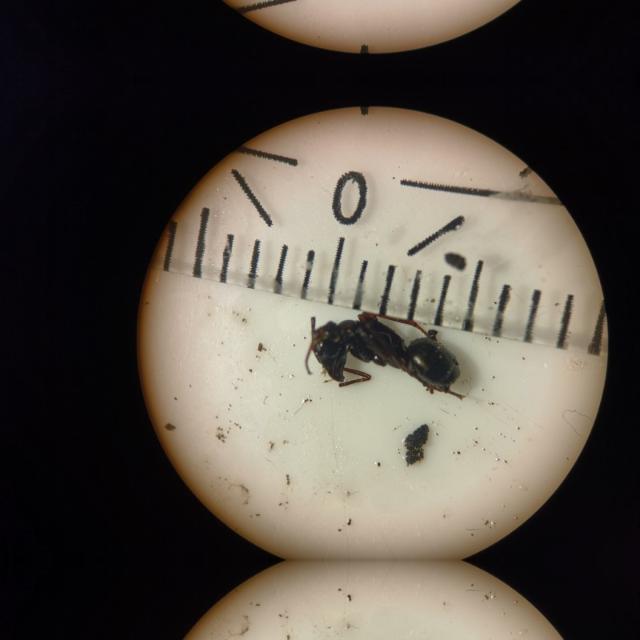Formica: (288, 296, 470, 402)
